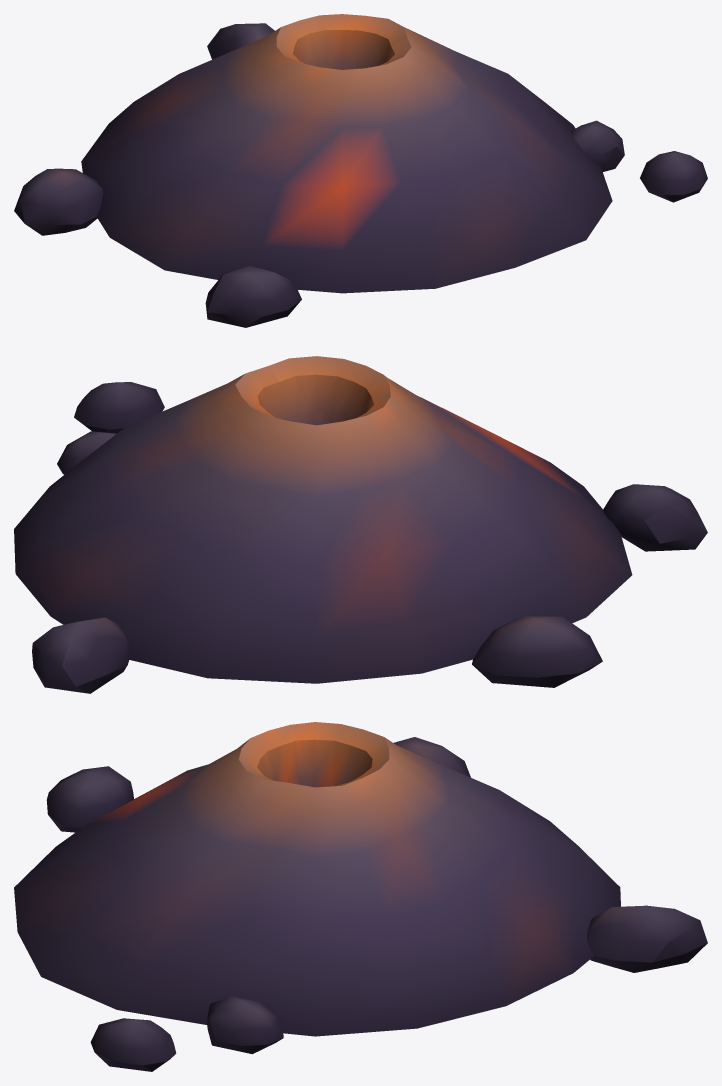
File: ember_misc_steam_vent_b.glb
The picture shows the model from 3 angles, top to bottom: view 1: azimuth 30°, elevation 25°; view 2: azimuth 150°, elevation 25°; view 3: azimuth 270°, elevation 25°; orthographic projection. The views are drawn at different scales.
Parts seen in each view (by area): view 1: ember_misc_steam_vent_b; view 2: ember_misc_steam_vent_b; view 3: ember_misc_steam_vent_b.
Part boxes in pixels (box(x1,y1,x2,y2)): ember_misc_steam_vent_b: box(14, 14, 707, 327); ember_misc_steam_vent_b: box(14, 356, 707, 693); ember_misc_steam_vent_b: box(14, 722, 707, 1071).
Bounding box in the file's own units: 4.64 × 1.19 × 4.38.
